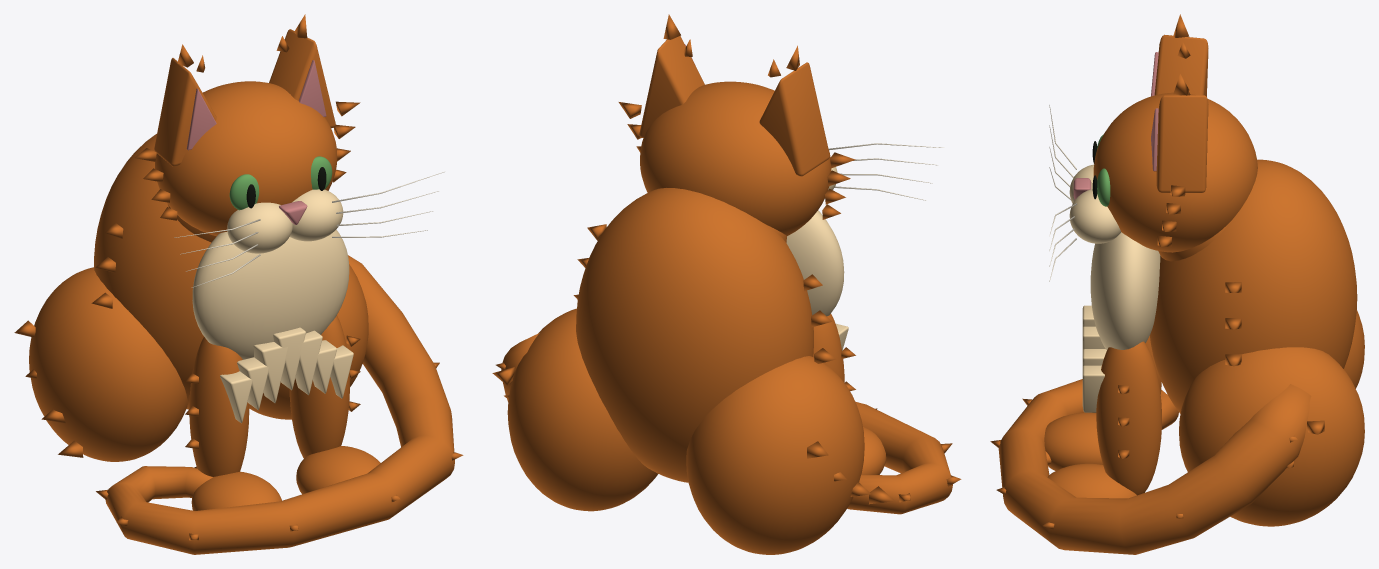
The model's file is foundry_treasure_chest.glb.
3 renders of one model, left to right at view 1: azimuth 30°, elevation 25°; view 2: azimuth 150°, elevation 25°; view 3: azimuth 270°, elevation 25°, orthographic. The views are drawn at different scales.
Visible parts, largest first — view 1: tail, chest_ruff, left_hind_haunch, head, cat_body, left_front_leg, fluffy_fur_coat, right_front_leg, left_ear, right_hind_haunch, muzzle_left_lobe, right_front_paw (+7 smaller); view 2: cat_body, left_hind_haunch, head, right_hind_haunch, tail, left_ear, fluffy_fur_coat, chest_ruff, right_ear, left_front_leg, left_front_paw, whisker_set; view 3: cat_body, tail, right_hind_haunch, head, chest_ruff, right_front_leg, right_ear, left_front_paw, fluffy_fur_coat, left_ear, right_front_paw, muzzle_right_lobe (+3 smaller).
Part boxes in pixels (x1,y1,x2,y2): tail: (105,255,454,554); chest_ruff: (192,229,353,423); left_hind_haunch: (29,267,187,461); head: (155,81,337,236); cat_body: (94,134,211,409); left_front_leg: (189,337,249,476); fluffy_fur_coat: (14,14,463,540); right_front_leg: (289,315,349,458); left_ear: (154,58,216,166); right_hind_haunch: (249,264,368,419); muzzle_left_lobe: (227,202,292,253); right_front_paw: (296,446,380,494); cat_body: (576,188,813,482); left_hind_haunch: (686,356,864,554); head: (640,81,831,235); right_hind_haunch: (507,308,658,511); tail: (501,333,952,514); left_ear: (759,62,829,176); fluffy_fur_coat: (492,14,961,504); chest_ruff: (786,210,848,350); right_ear: (639,36,704,137); left_front_leg: (813,314,844,382); left_front_paw: (861,427,886,474); whisker_set: (828,143,944,200); cat_body: (1150,159,1357,413); tail: (998,379,1311,554); right_hind_haunch: (1179,347,1364,526); head: (1093,92,1257,252); chest_ruff: (1082,232,1160,412); right_front_leg: (1096,341,1161,495); right_ear: (1156,95,1208,192); left_front_paw: (1044,412,1102,470); fluffy_fur_coat: (990,14,1324,529); left_ear: (1154,34,1208,96); right_front_paw: (1047,463,1136,498); muzzle_right_lobe: (1069,189,1120,243).
Bounding box in the file's own units: 1.68 × 2 × 1.49.
